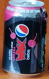pepsi: (2, 1, 46, 76)
